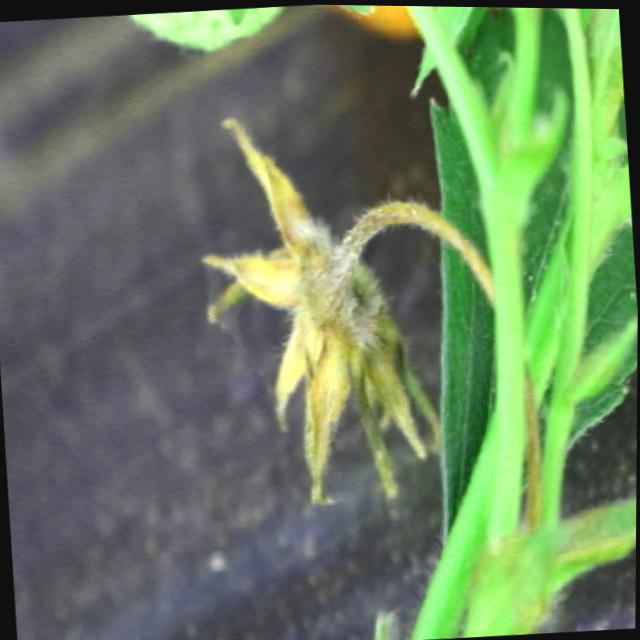Gray Mold: (199, 117, 442, 501)
